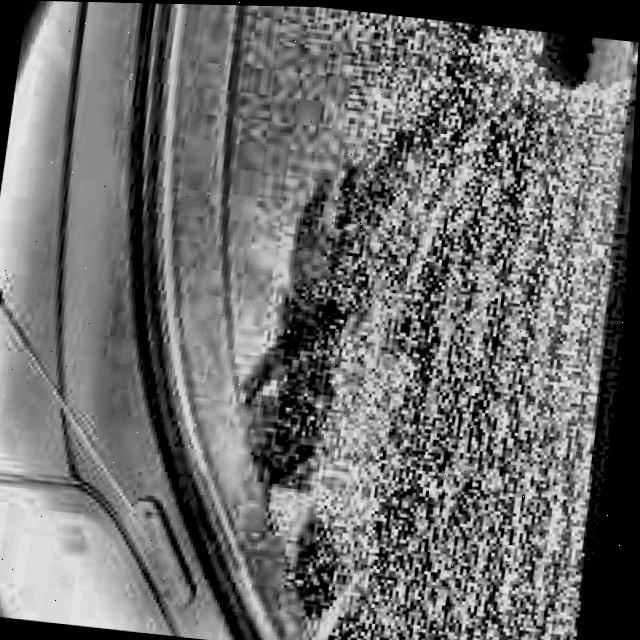glass_shatter: (457, 22, 634, 142)
